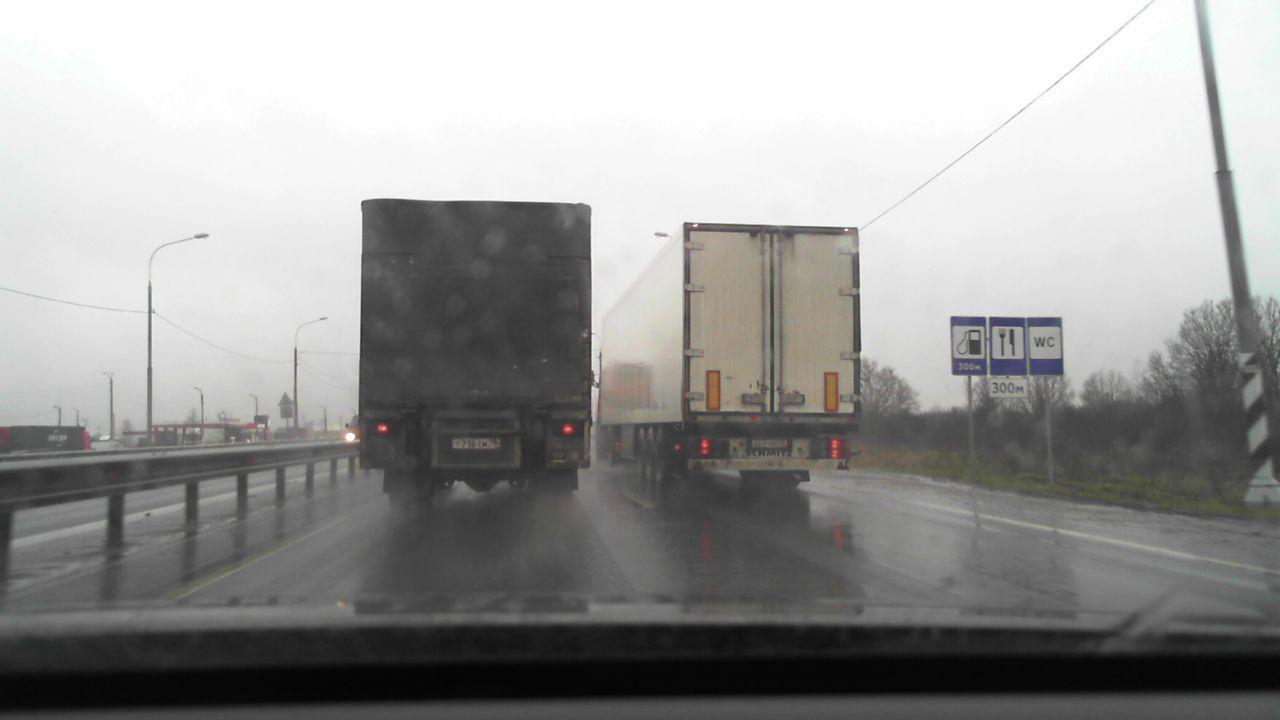7_18: (1028, 317, 1065, 375)
7_3: (948, 315, 988, 375)
7_7: (987, 315, 1030, 375)
8_1_1: (990, 376, 1029, 400)
